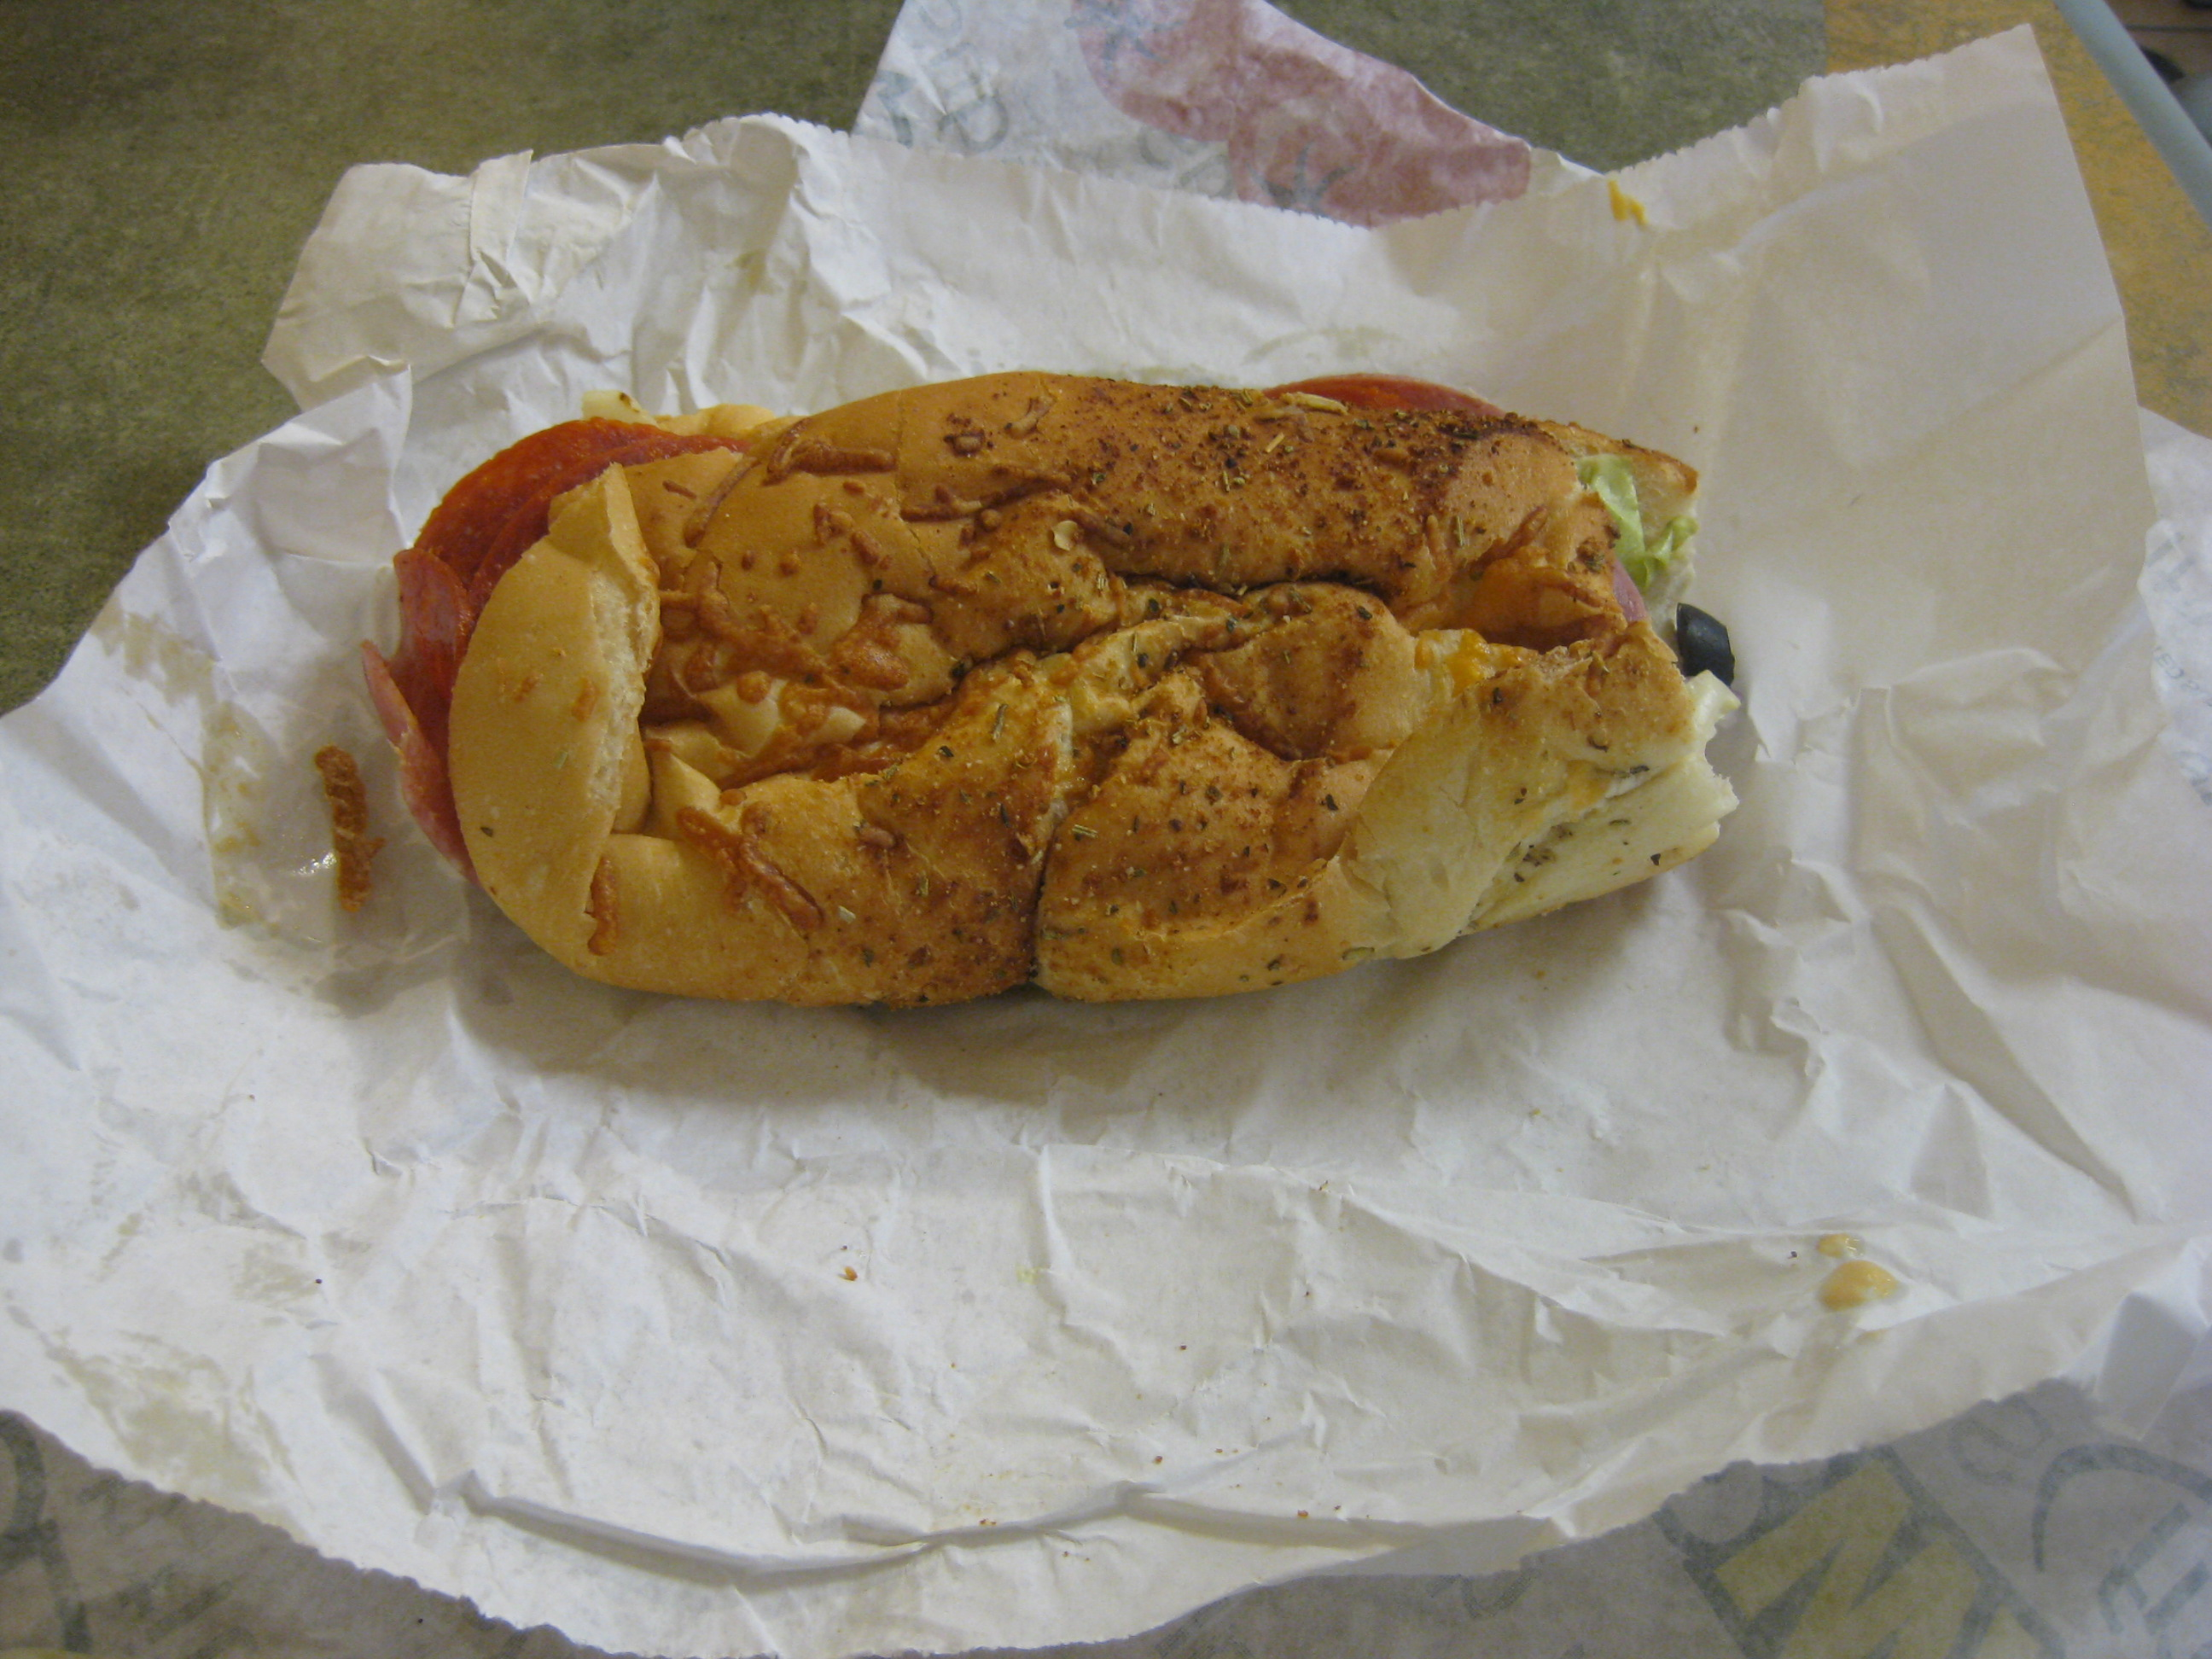sub: (346, 387, 1833, 1029)
